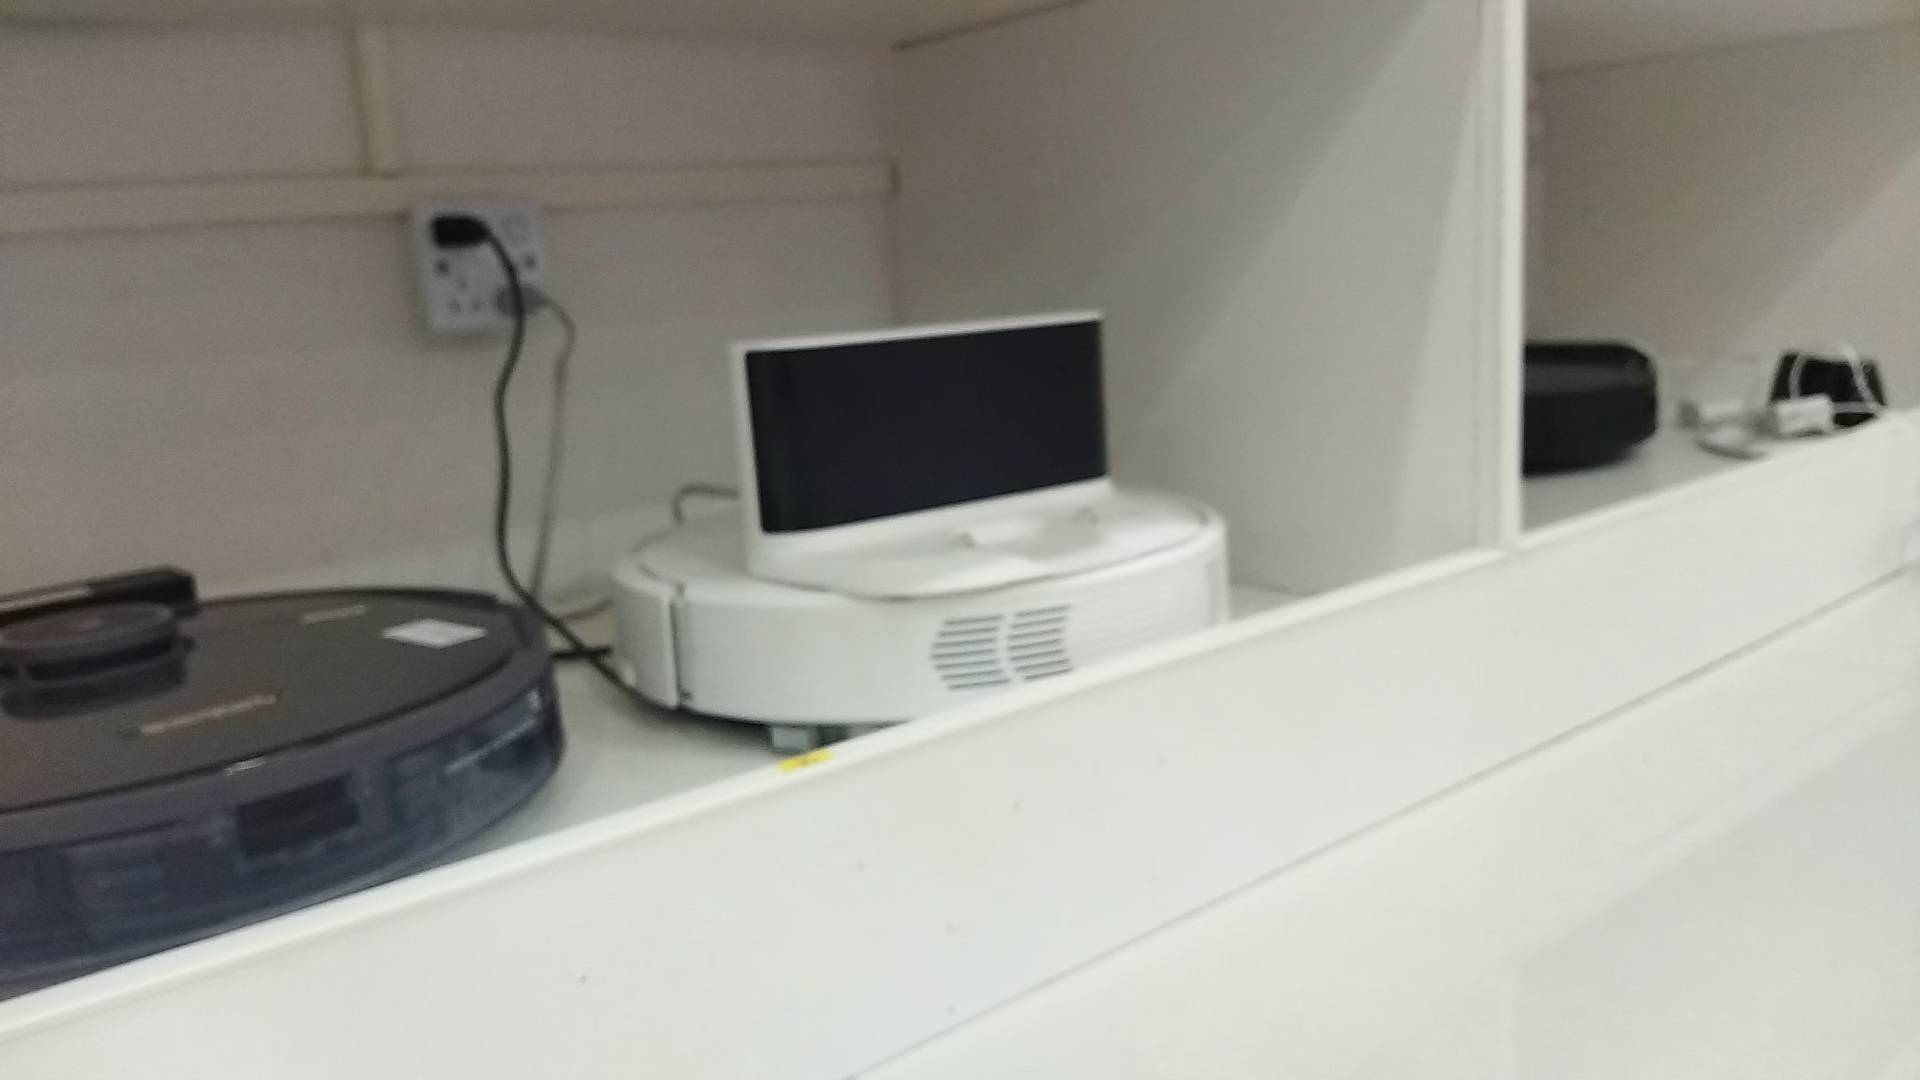recharge seat: (731, 305, 1209, 603)
